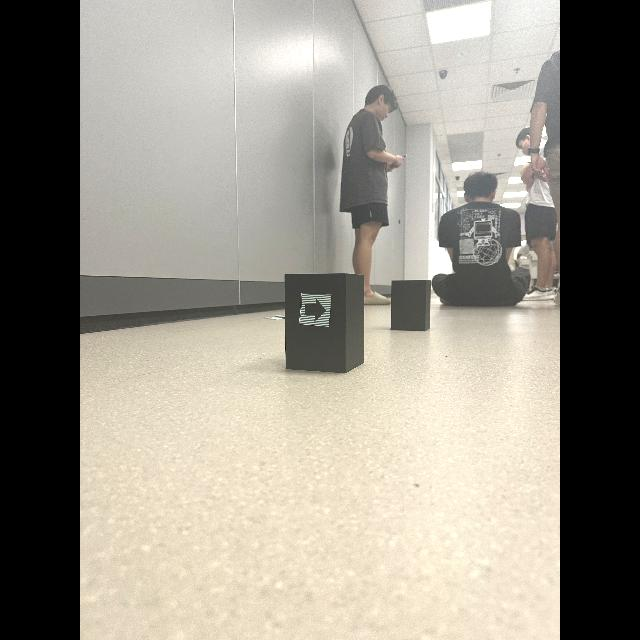RIGHT: (305, 298, 326, 322)
